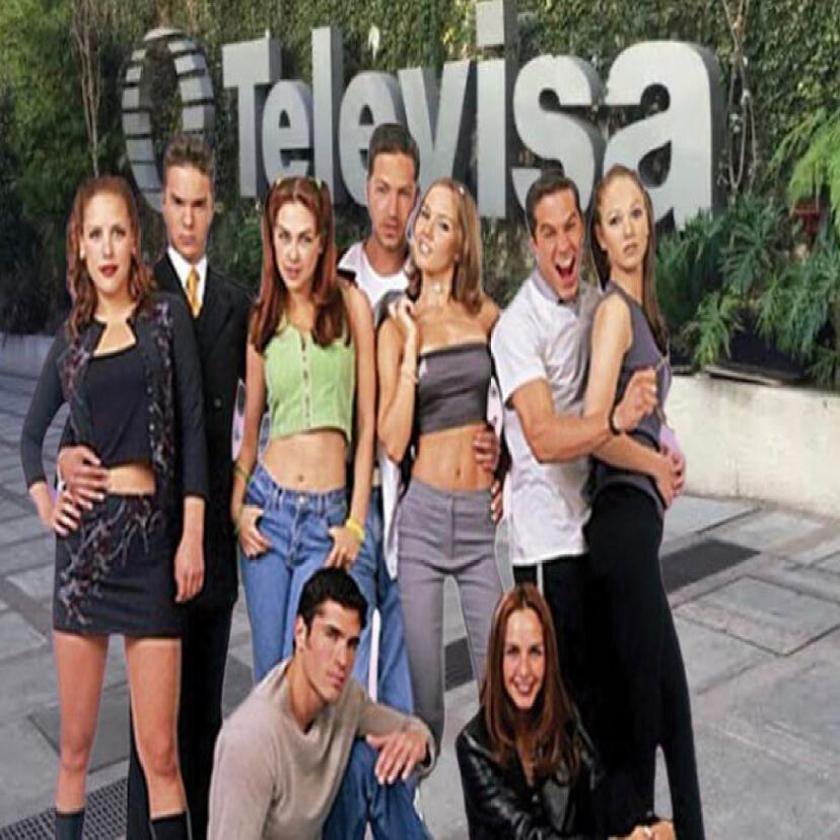Sin_casco: (288, 562, 376, 724), (66, 156, 146, 311), (472, 584, 570, 706), (252, 165, 337, 304), (513, 170, 589, 306), (154, 128, 223, 266), (362, 110, 422, 260), (592, 170, 655, 300), (415, 169, 470, 286)
